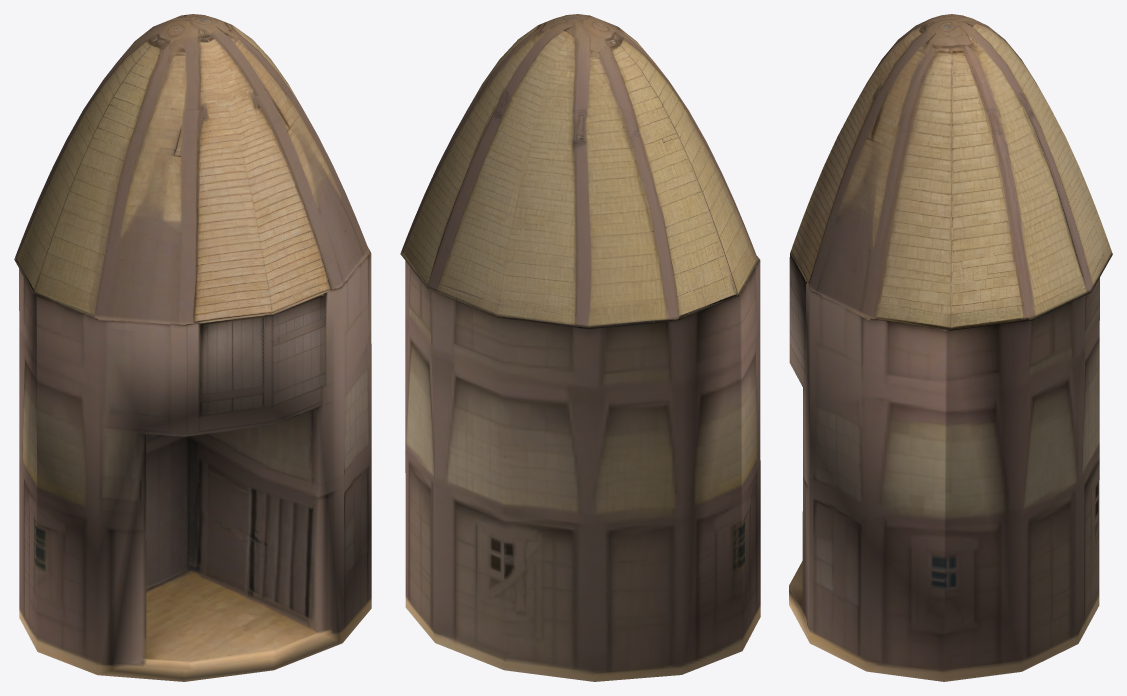
File: home_007.obj
3 renders of one model, left to right at view 1: azimuth 30°, elevation 25°; view 2: azimuth 150°, elevation 25°; view 3: azimuth 270°, elevation 25°, orthographic.
Visible parts, largest first — view 1: model; view 2: model; view 3: model.
Boxes of the visible parts, x1,y1,x2,y2 form: model: (14, 14, 371, 681); model: (400, 14, 760, 681); model: (789, 14, 1112, 681).
Size of the model in its own units: 1.12 by 2 by 1.
